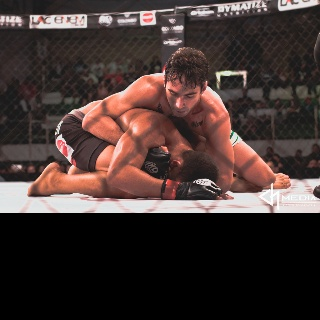without_mask: (166, 80, 200, 117)
